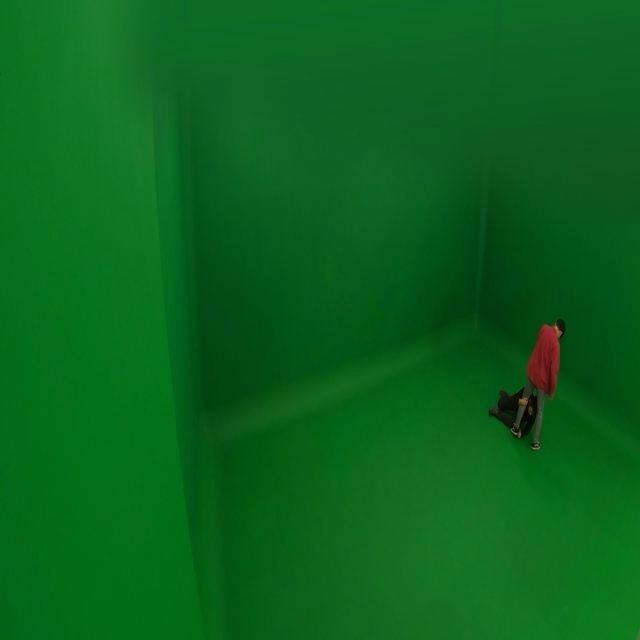fight: (490, 312, 564, 448)
